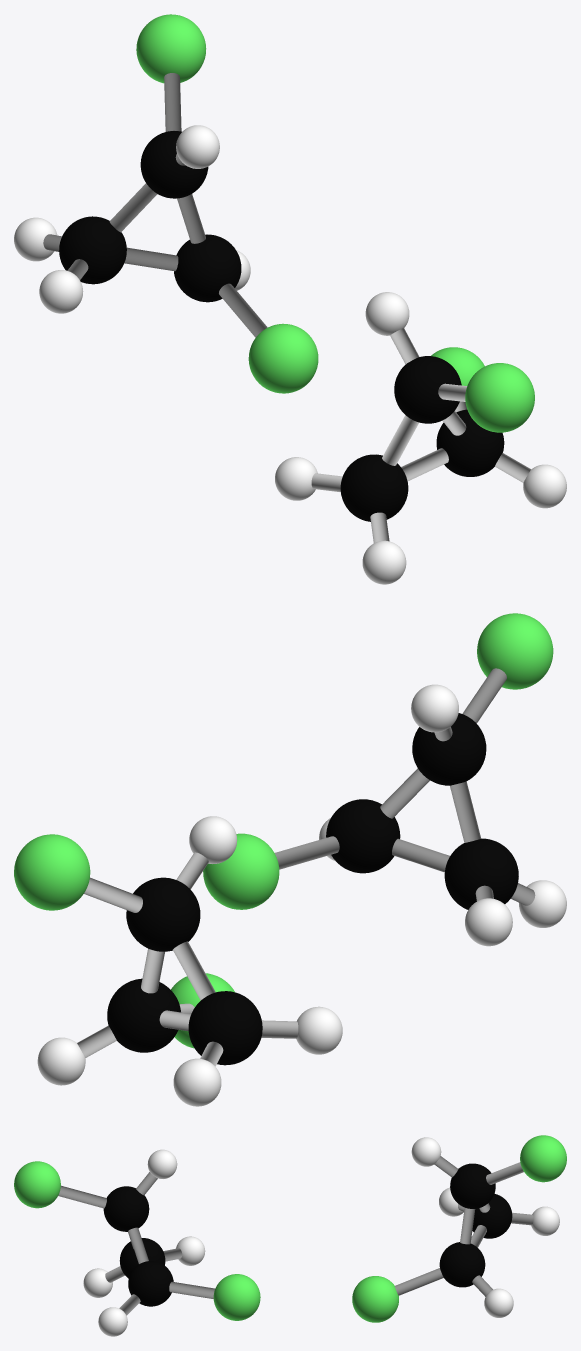
The model's file is DCPmirror.gltf.
The picture shows the model from 3 angles, top to bottom: view 1: azimuth 30°, elevation 25°; view 2: azimuth 150°, elevation 25°; view 3: azimuth 270°, elevation 25°; orthographic projection. The views are drawn at different scales.
Visible parts, largest first — view 1: 1,2-dichloropropane (4).sdf, 1,2-dichloropropane (3).sdf; view 2: 1,2-dichloropropane (3).sdf, 1,2-dichloropropane (4).sdf; view 3: 1,2-dichloropropane (4).sdf, 1,2-dichloropropane (3).sdf.
Part boxes in pixels (x1,y1,x2,y2): 1,2-dichloropropane (4).sdf: [14, 14, 318, 393]; 1,2-dichloropropane (3).sdf: [275, 292, 566, 584]; 1,2-dichloropropane (3).sdf: [203, 613, 566, 946]; 1,2-dichloropropane (4).sdf: [14, 816, 342, 1106]; 1,2-dichloropropane (4).sdf: [352, 1135, 566, 1322]; 1,2-dichloropropane (3).sdf: [14, 1149, 260, 1336].
Size of the model in its own units: 4.06 by 4.06 by 10.3.
